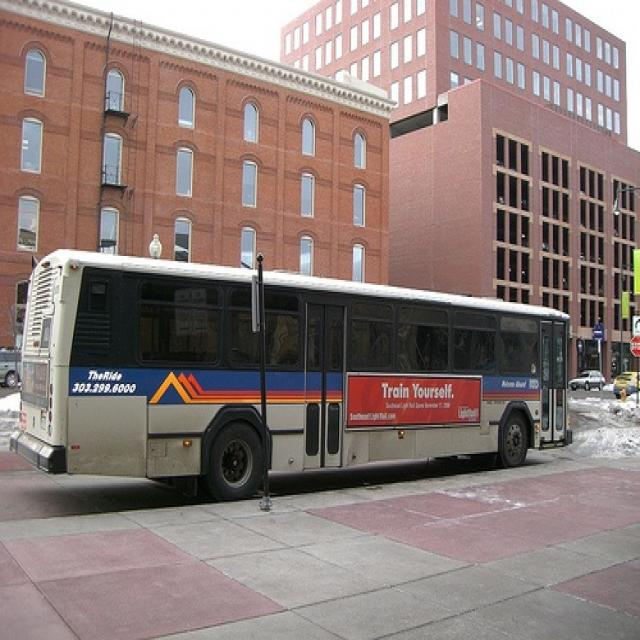bus: (8, 246, 574, 502)
car: (571, 367, 607, 394)
pole: (252, 249, 272, 493)
